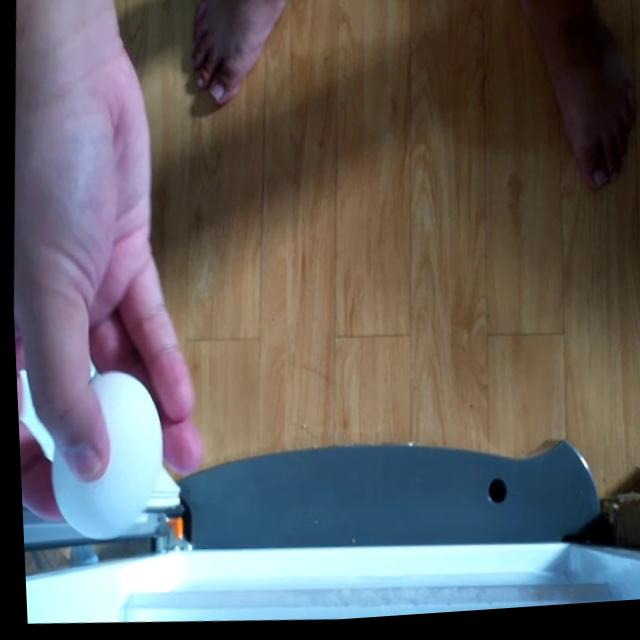egg: (38, 364, 162, 543)
